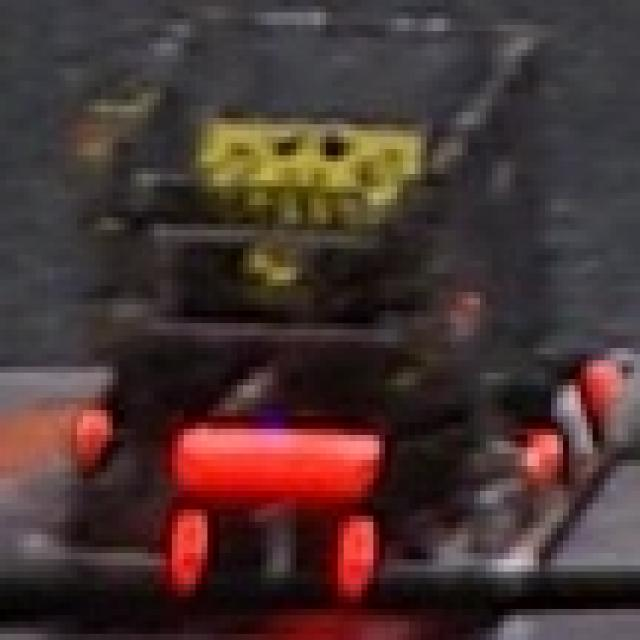R1: (136, 482, 391, 600), (498, 332, 616, 507)
